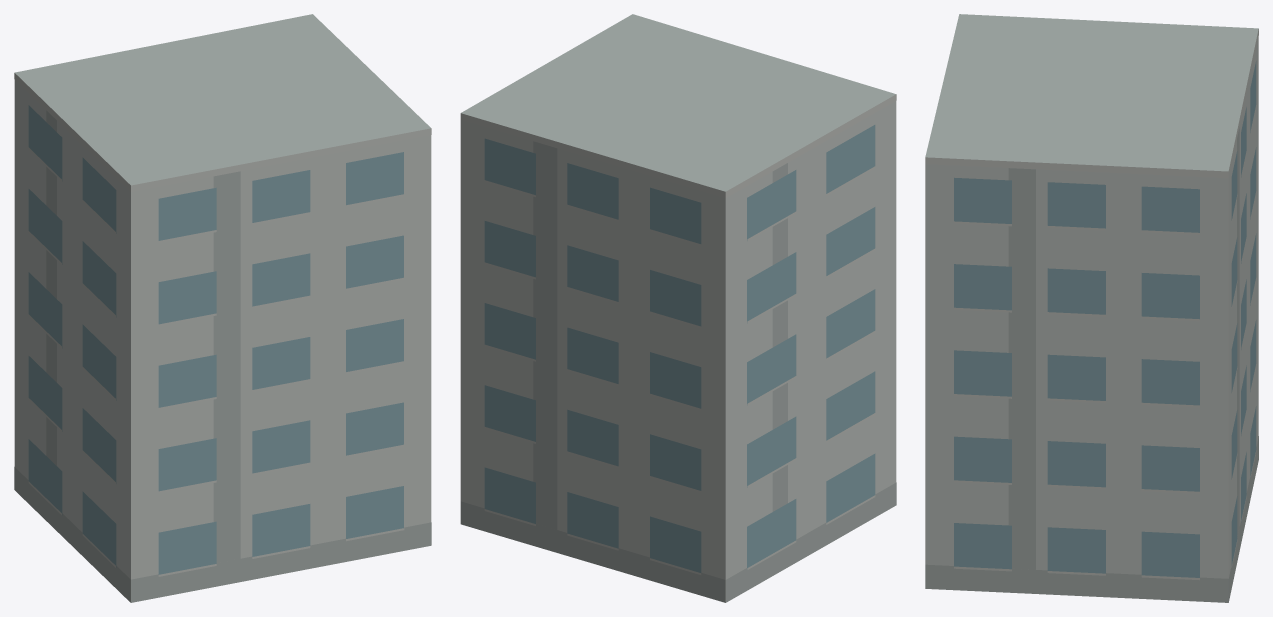
Rendered from survey-upis-32808452.glb.
3 views of the same model, side by side, from view 1: azimuth 30°, elevation 25°; view 2: azimuth 150°, elevation 25°; view 3: azimuth 270°, elevation 25° (orthographic). The views are drawn at different scales.
Parts seen in each view (by area): view 1: survey-upis-32808452.tmp; view 2: survey-upis-32808452.tmp; view 3: survey-upis-32808452.tmp.
Boxes of the visible parts, bbox=[...] form: survey-upis-32808452.tmp: bbox=[14, 14, 431, 602]; survey-upis-32808452.tmp: bbox=[460, 14, 896, 602]; survey-upis-32808452.tmp: bbox=[925, 14, 1258, 602].
Size of the model in its own units: 11.95 by 15.25 by 10.69.
